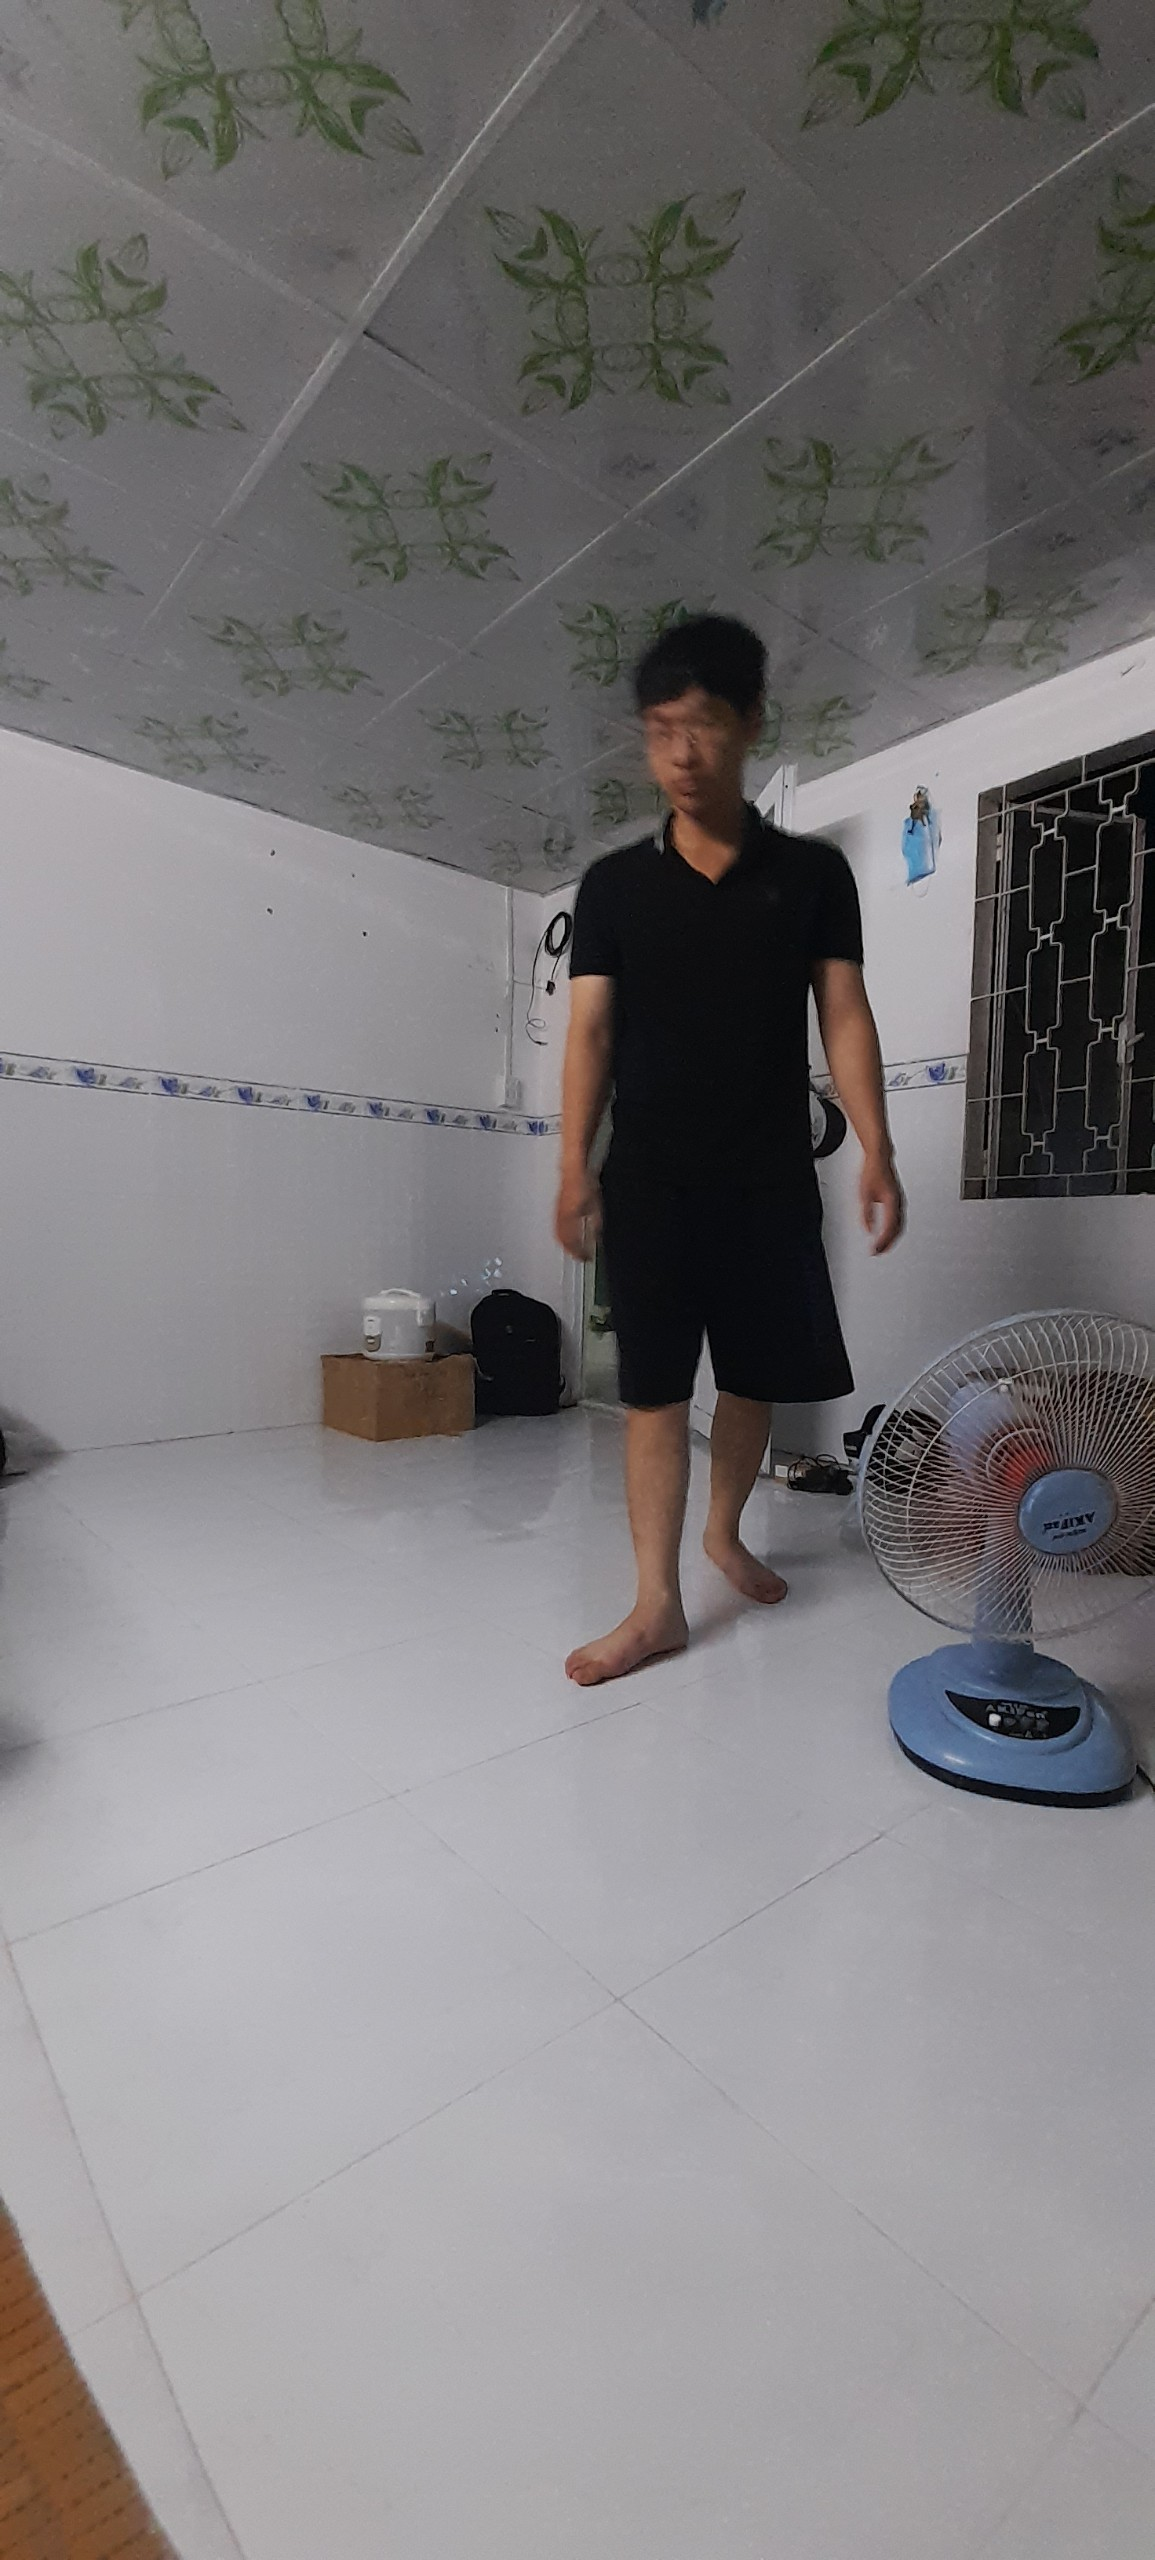person: (560, 612, 865, 1698)
